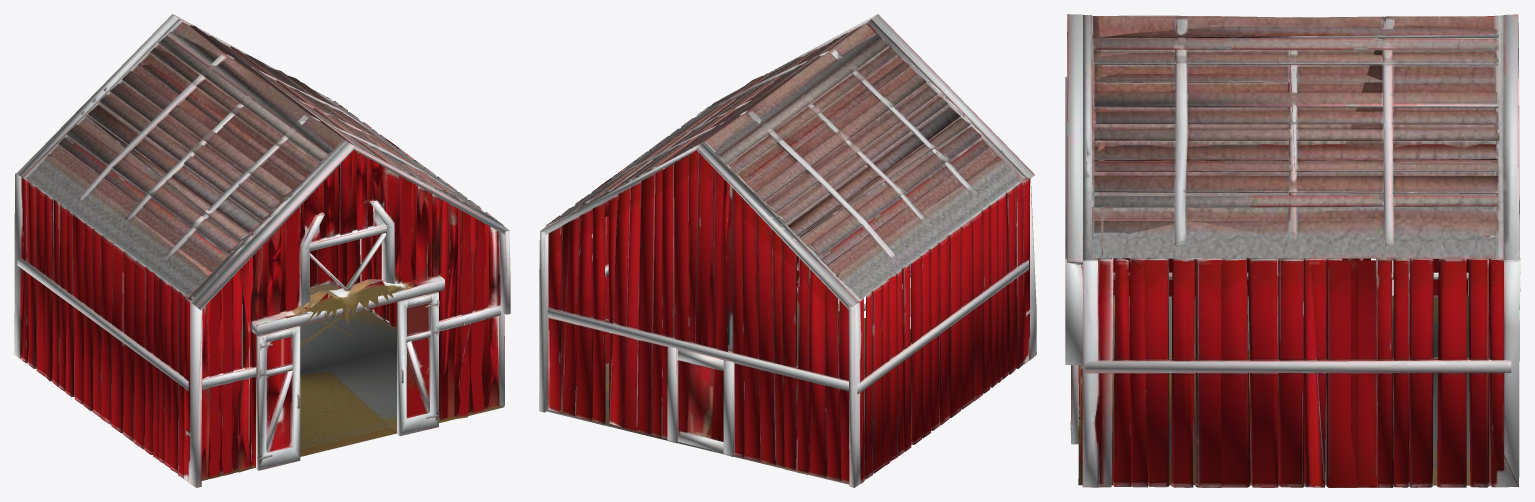
Rendered from barn.glb.
3 views of the same model, side by side, from view 1: azimuth 30°, elevation 25°; view 2: azimuth 150°, elevation 25°; view 3: azimuth 270°, elevation 25° (orthographic). The views are drawn at different scales.
Bounding box in the file's own units: 0.9546 × 0.8785 × 0.9556.
1 material, 1 textured.
